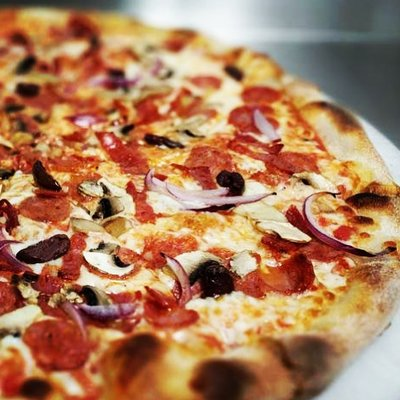sandwich: (0, 19, 400, 400)
